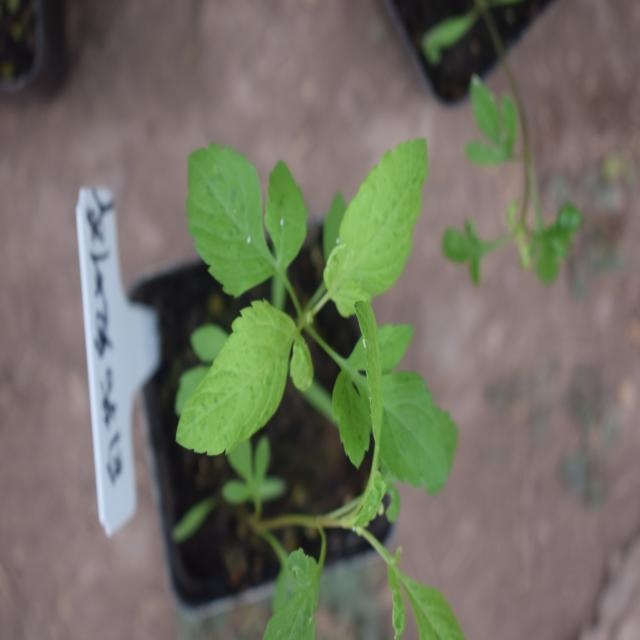Bidens pilosa: (150, 136, 466, 519)
